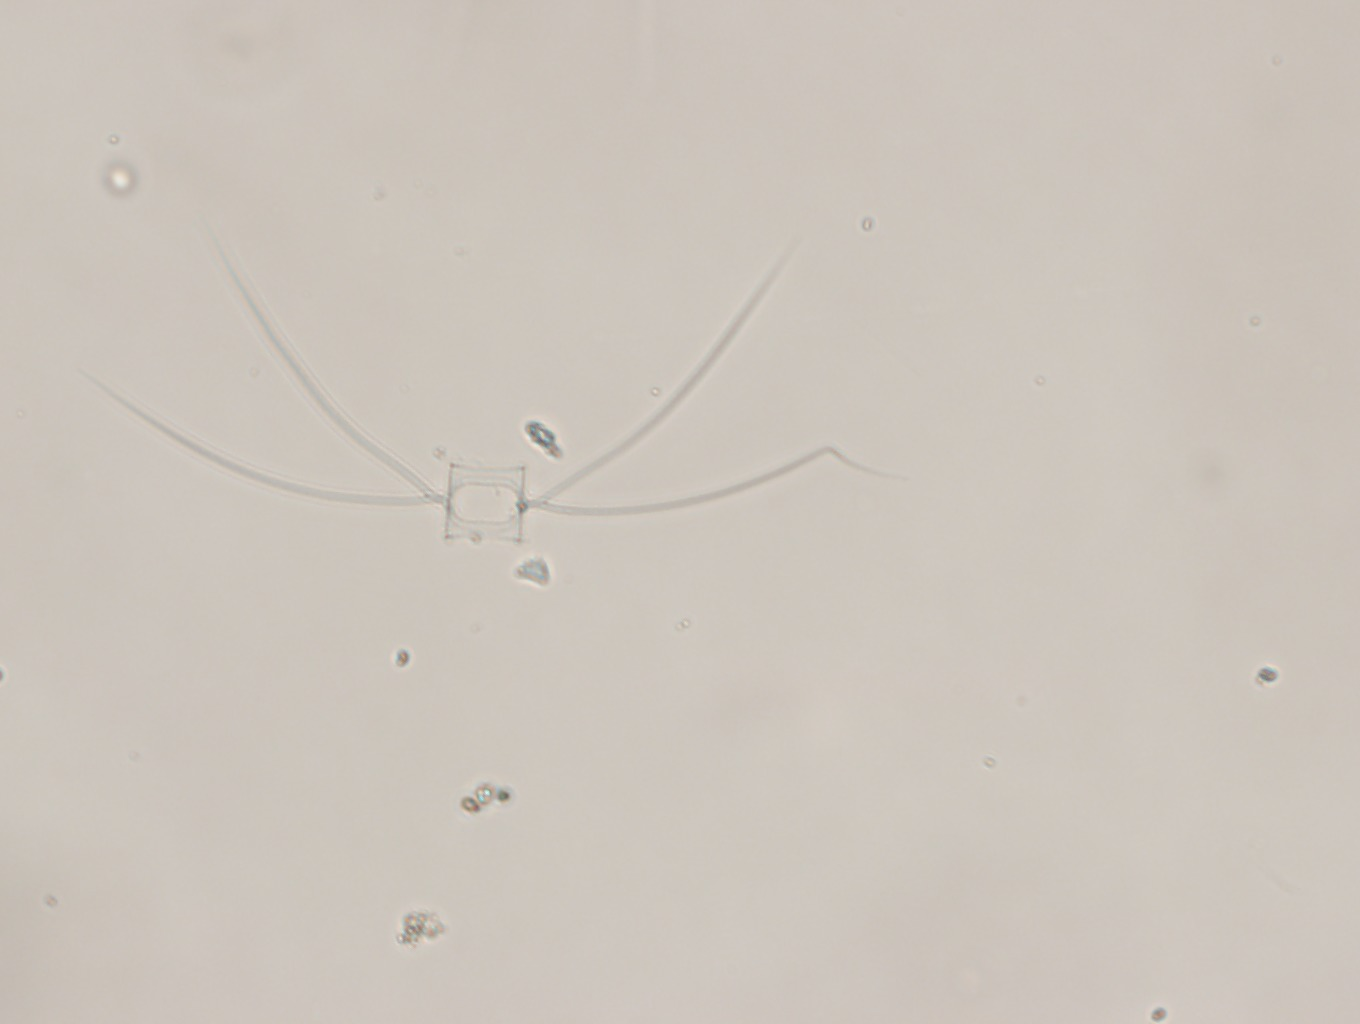chaetoceros: (74, 216, 892, 556)
